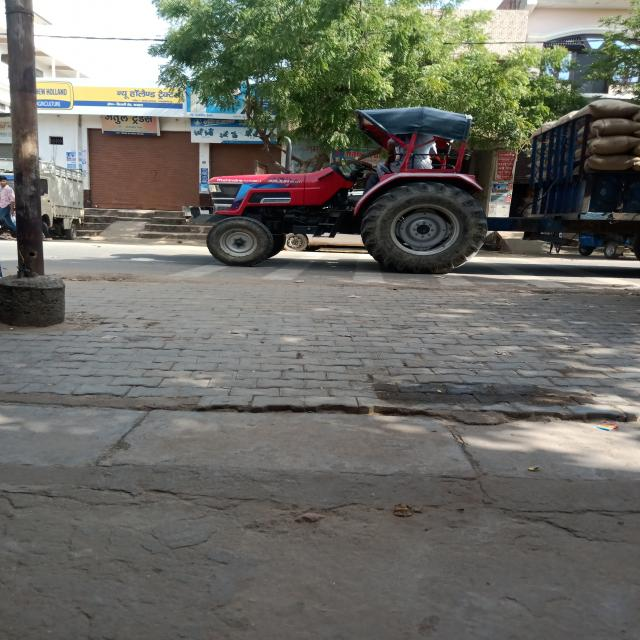Tractor: (169, 99, 551, 273)
